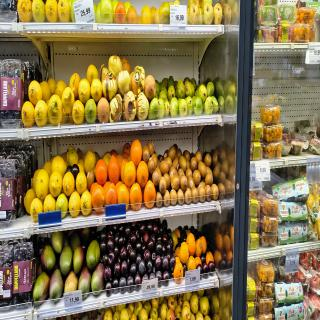fruit: (0, 49, 23, 132), (13, 242, 34, 303), (2, 155, 16, 227), (105, 151, 122, 186), (85, 240, 101, 272), (76, 78, 92, 108), (94, 153, 107, 187), (72, 243, 85, 276), (89, 78, 103, 104), (27, 78, 42, 102), (63, 81, 75, 111), (22, 98, 34, 124), (138, 162, 150, 187), (115, 0, 128, 23), (125, 161, 136, 185), (132, 139, 141, 162), (159, 252, 169, 270), (145, 247, 157, 262), (141, 232, 152, 248), (107, 249, 116, 266), (104, 263, 112, 282), (121, 258, 129, 276), (138, 255, 145, 272), (171, 253, 176, 272)
